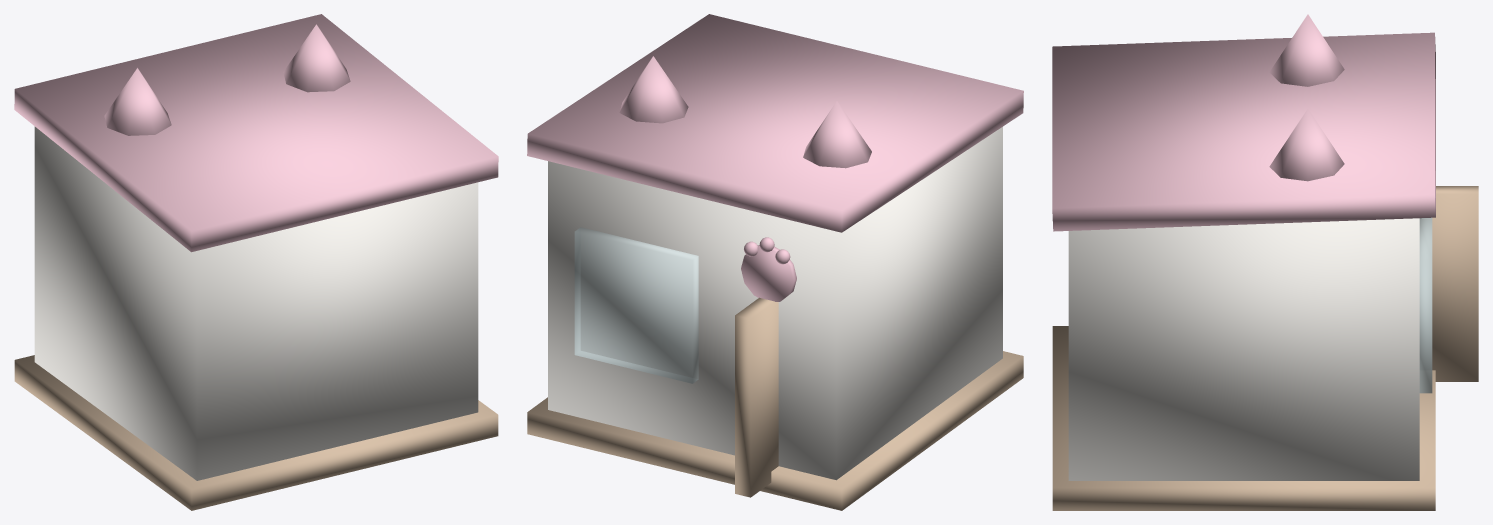
The model's file is cat_cafe_lv2.glb.
3 renders of one model, left to right at view 1: azimuth 30°, elevation 25°; view 2: azimuth 150°, elevation 25°; view 3: azimuth 270°, elevation 25°, orthographic. The views are drawn at different scales.
Parts seen in each view (by area): view 1: body, roof, floor, ear_l, ear_r; view 2: body, roof, window, floor, door, ear_l, ear_r, paw_pad; view 3: body, roof, floor, door, ear_l, ear_r, window.
Part boxes in pixels (<box>): body: <box>34,126,478,480</box>; roof: <box>14,14,498,252</box>; floor: <box>14,355,498,510</box>; ear_l: <box>104,68,171,135</box>; ear_r: <box>283,24,350,92</box>; body: <box>548,127,1002,480</box>; roof: <box>527,14,1023,232</box>; window: <box>574,227,698,383</box>; floor: <box>527,351,1023,510</box>; door: <box>735,297,778,497</box>; ear_l: <box>803,101,871,168</box>; ear_r: <box>619,56,688,123</box>; paw_pad: <box>741,245,796,301</box>; body: <box>1068,218,1419,480</box>; roof: <box>1052,32,1435,231</box>; floor: <box>1052,326,1435,510</box>; door: <box>1432,186,1478,381</box>; ear_l: <box>1269,14,1344,86</box>; ear_r: <box>1269,109,1344,181</box>; window: <box>1419,217,1432,393</box>.
Bounding box in the file's own units: 1.2 × 1.27 × 1.34.
